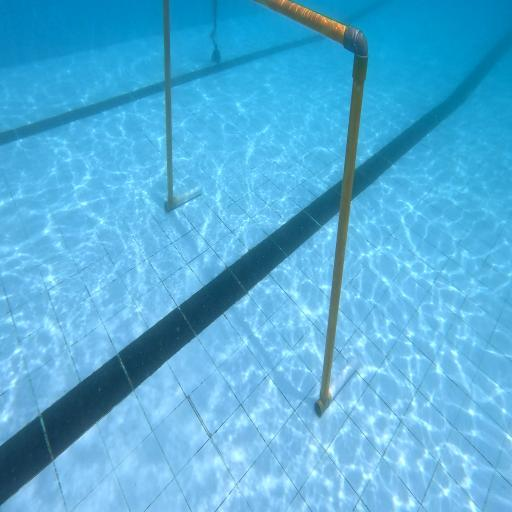gate: (164, 0, 368, 419)
